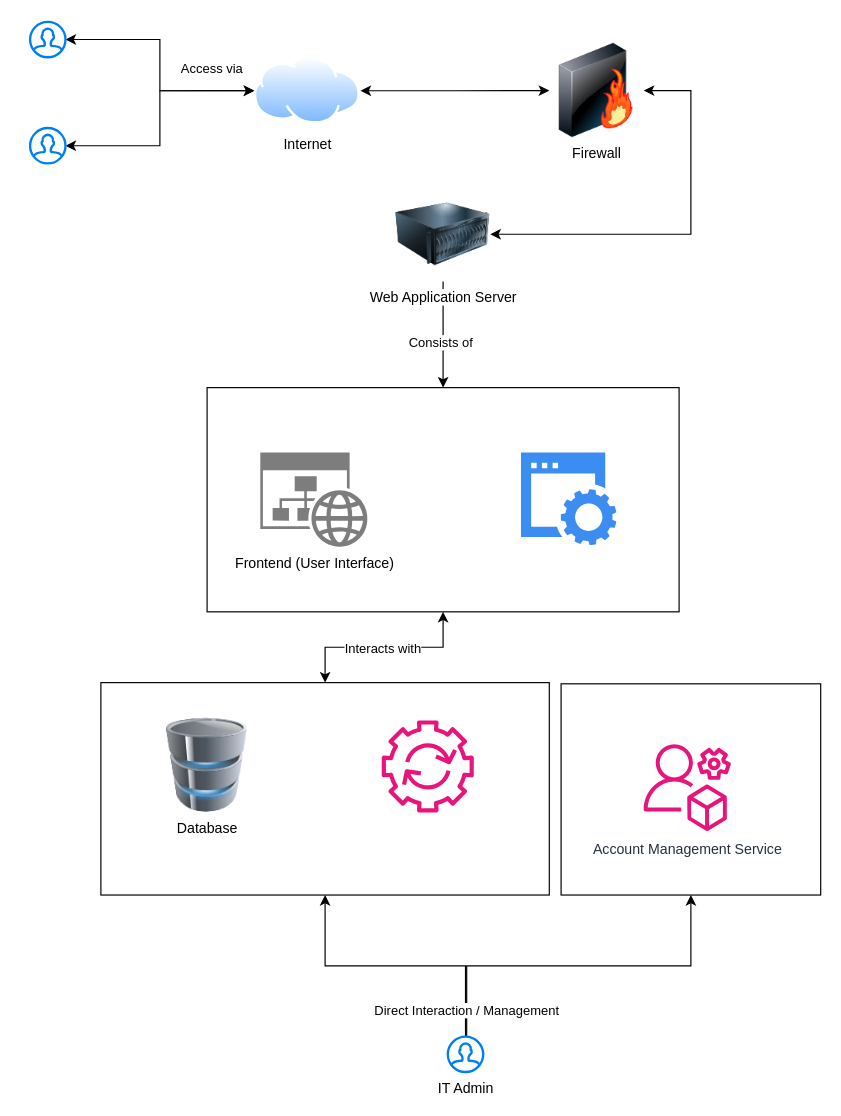
Some shapes in this 841 by 1116 pixel diagram are drawn without their labels. The centre of each missing label's shape, as x and y in pixels:
"Authentication Service" belongs at pixel 427 766.
"Backend (web application logic)" belongs at pixel 568 498.
"Manager" belongs at pixel 47 145.
"Pilot" belongs at pixel 47 39.
